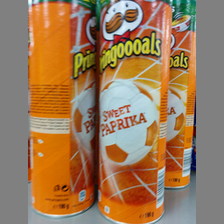chips: (95, 1, 173, 223), (28, 1, 98, 220)
